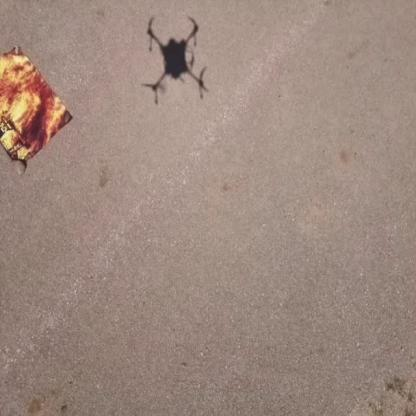fire-poster: (0, 43, 73, 174)
